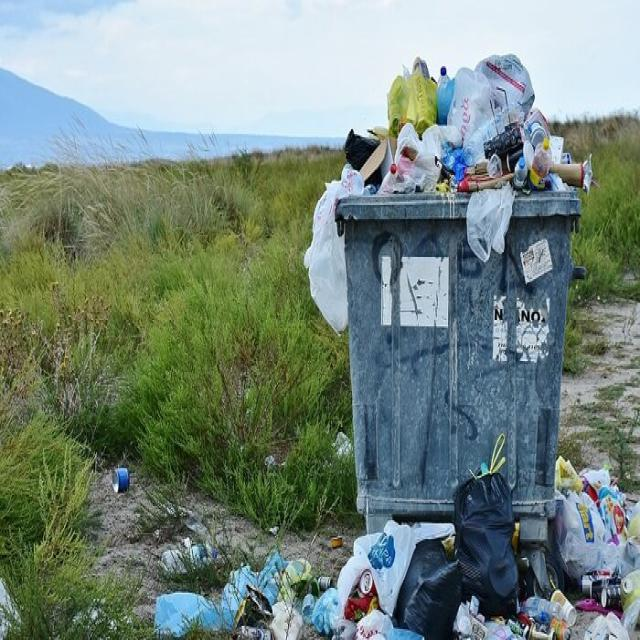metal: (598, 584, 620, 618), (109, 469, 131, 495), (357, 570, 374, 600)
plastic: (459, 480, 519, 611), (533, 138, 551, 185)
